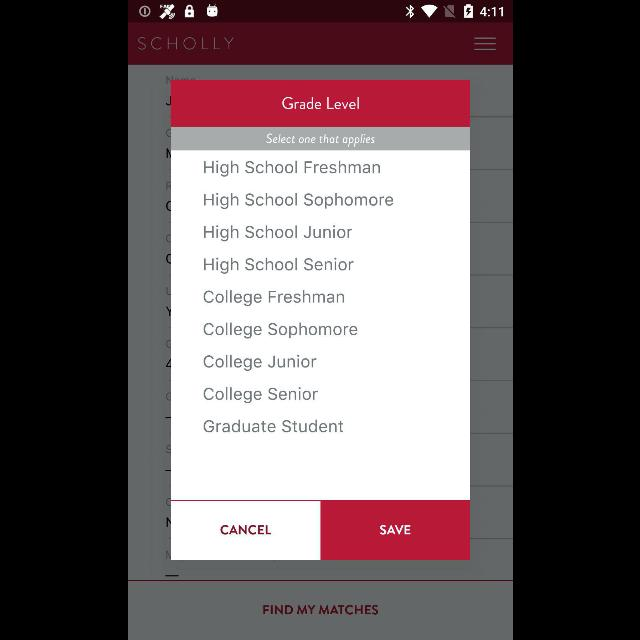icon: (472, 37, 496, 51)
panel: (170, 80, 470, 560)
text: (202, 192, 394, 210), (203, 161, 379, 177), (203, 322, 357, 340), (203, 256, 353, 274), (204, 224, 352, 242), (202, 289, 344, 307), (202, 386, 318, 404), (202, 354, 316, 372), (203, 419, 343, 433), (265, 133, 373, 147), (137, 38, 233, 51), (262, 605, 378, 615), (282, 96, 358, 110)
textbutton: (320, 500, 470, 560), (170, 500, 320, 560)
uppertaskbar: (128, 1, 512, 23)
